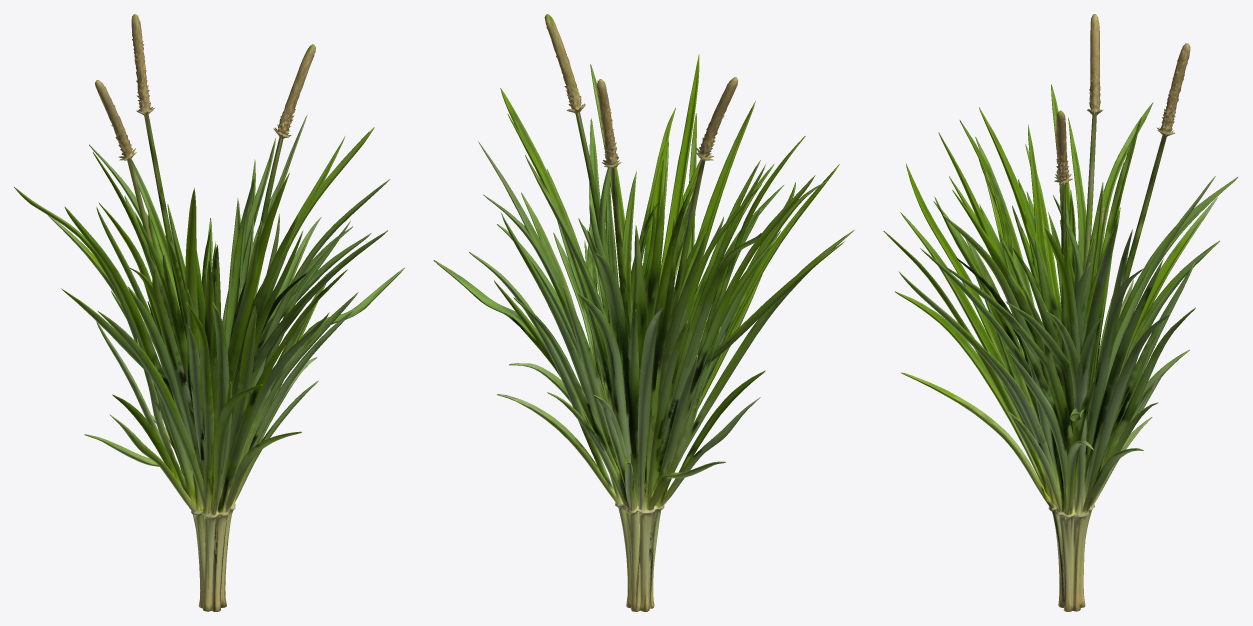
Rendered from maoxiang.glb.
3 views of the same model, side by side, from view 1: azimuth 30°, elevation 25°; view 2: azimuth 150°, elevation 25°; view 3: azimuth 270°, elevation 25° (orthographic). The views are drawn at different scales.
Parts seen in each view (by area): view 1: node_0; view 2: node_0; view 3: node_0.
Boxes of the visible parts, bbox=[...] form: node_0: bbox=[14, 14, 404, 611]; node_0: bbox=[433, 14, 854, 611]; node_0: bbox=[883, 14, 1237, 611].
Size of the model in its own units: 0.7736 by 1.11 by 0.643.
Materials: 1 (1 with a texture image).
